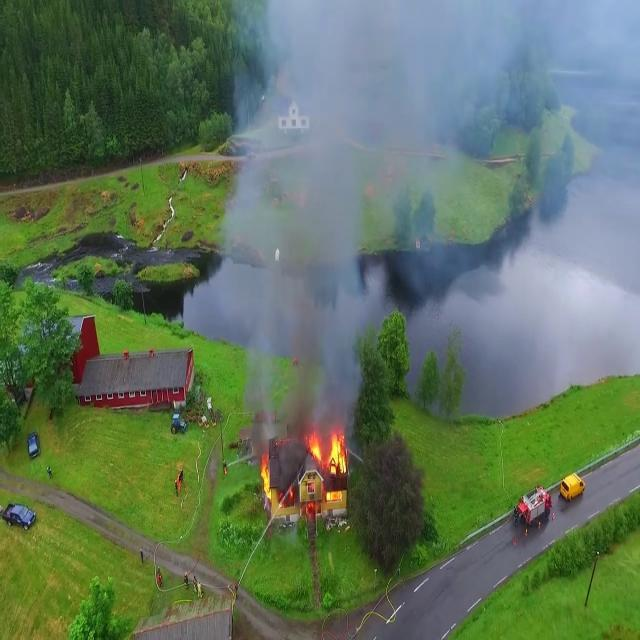Fire: (305, 422, 349, 484), (259, 448, 275, 509)
Smoke: (189, 0, 638, 422)
